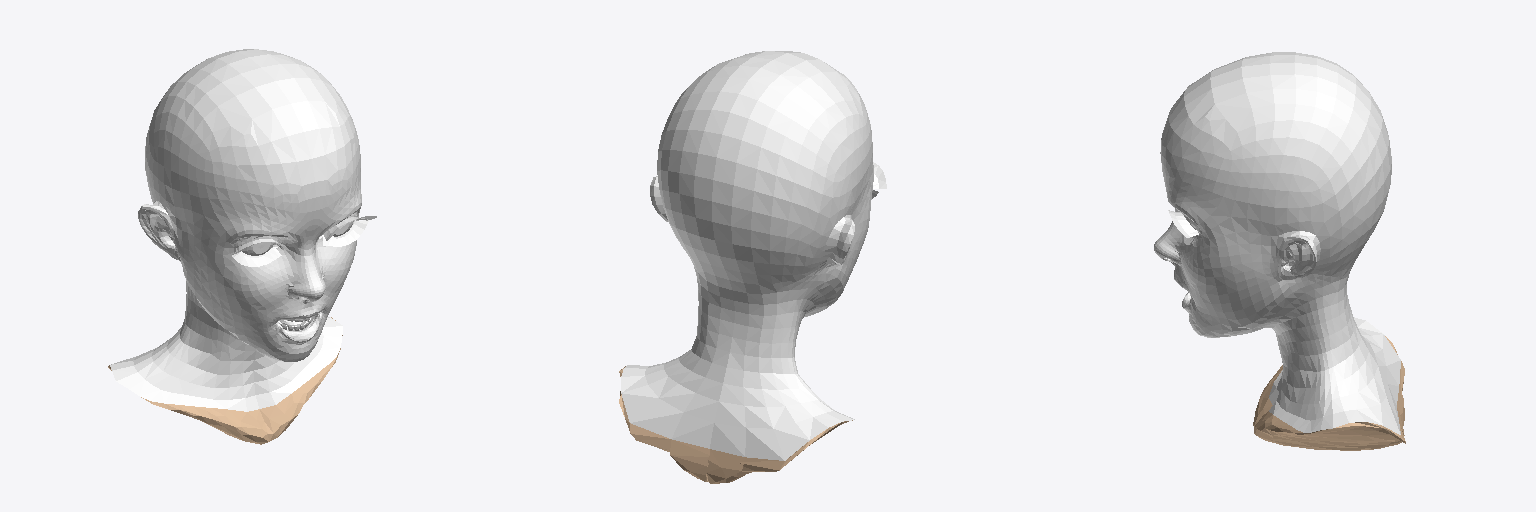
The model's file is A_AND_I.obj.
The picture shows the model from 3 angles: view 1: azimuth 30°, elevation 25°; view 2: azimuth 150°, elevation 25°; view 3: azimuth 270°, elevation 25°; orthographic projection.
Parts seen in each view (by area): view 1: Body, Eyelashes; view 2: Body; view 3: Body.
Part boxes in pixels (x1,y1,x2,y2): Body: (110, 49, 361, 411); Eyelashes: (232, 216, 376, 266); Body: (621, 51, 873, 460); Body: (1154, 52, 1400, 434).
Bounding box in the file's own units: 23 × 37.41 × 22.09.